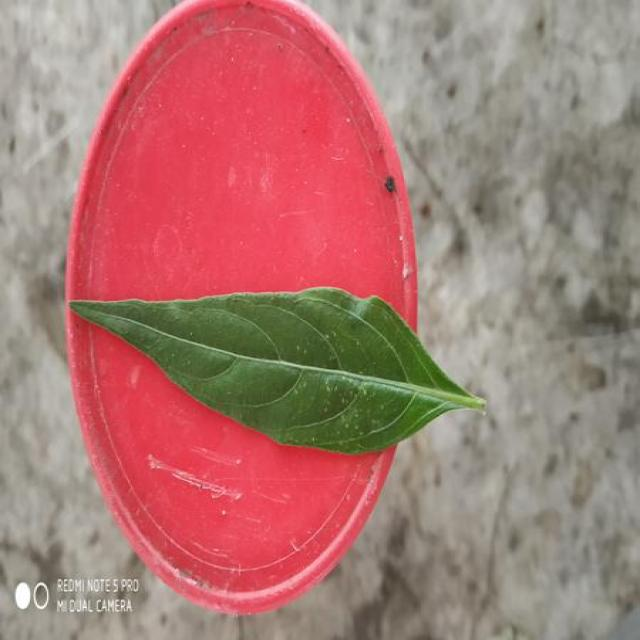Nelavembu: (70, 288, 485, 454)
